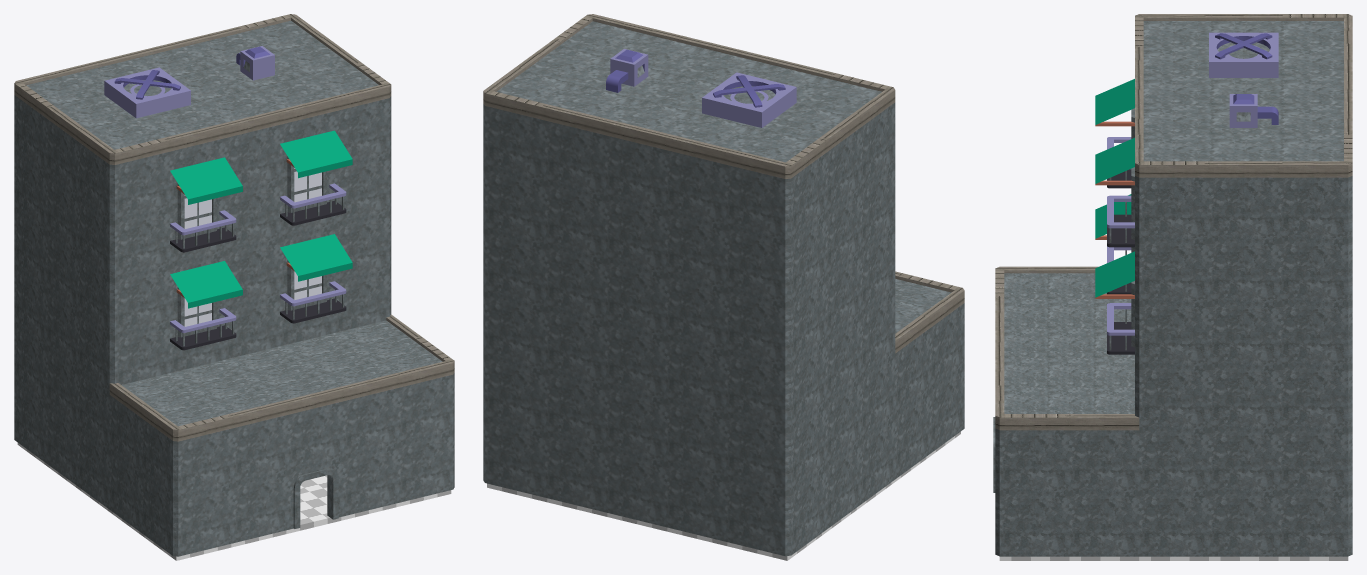
File: Store 2.fbx
3 renders of one model, left to right at view 1: azimuth 30°, elevation 25°; view 2: azimuth 150°, elevation 25°; view 3: azimuth 270°, elevation 25°, orthographic. The views are drawn at different scales.
Visible parts, largest first — view 1: mergedBlocks; view 2: mergedBlocks; view 3: mergedBlocks.
Part boxes in pixels (x1,y1,x2,y2): mergedBlocks: (14,14,454,560); mergedBlocks: (483,14,964,560); mergedBlocks: (993,14,1352,560).
Size of the model in its own units: 51.25 by 66.5 by 51.55.
12 materials, 5 textured.
